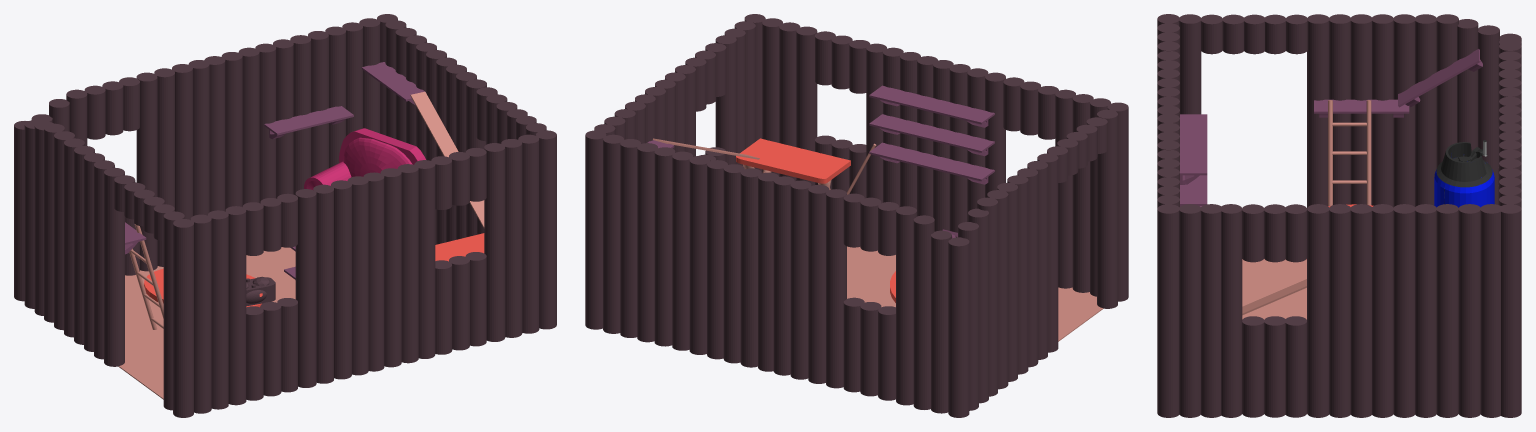
File: OneRoomCabin2.fbx
3 views of the same model, side by side, from view 1: azimuth 30°, elevation 25°; view 2: azimuth 150°, elevation 25°; view 3: azimuth 270°, elevation 25° (orthographic). The views are drawn at different scales.
Parts seen in each view (by area): view 1: Cabin, Cylinder.021, Cylinder.003, Cylinder.014, Cylinder.050, Cylinder.018, Cylinder.019, Cylinder, Cylinder.020, Cylinder.001, Cylinder.012, Cylinder.009 (+67 smaller); view 2: Cylinder.022, Cabin, Cylinder.056, Cylinder.039, Cylinder.031, Cylinder.029, Cylinder.025, Cylinder.038, Cylinder.035, Cylinder.034, Cylinder.040, Cylinder.037 (+64 smaller); view 3: Cylinder, Cylinder.073, Cylinder.071, Cylinder.067, Cylinder.060, Cylinder.072, Cylinder.069, Cylinder.070, Cylinder.068, Cylinder.061, Cylinder.063, Cylinder.043 (+31 smaller).
Boxes of the visible parts, x1,y1,x2,y2 form: Cabin: (118, 247, 295, 399); Cylinder.021: (173, 219, 193, 417); Cylinder.003: (484, 143, 505, 341); Cylinder.014: (295, 189, 316, 387); Cylinder.050: (104, 167, 124, 366); Cylinder.018: (225, 206, 246, 405); Cylinder.019: (208, 210, 228, 409); Cylinder: (536, 130, 556, 329); Cylinder.020: (190, 214, 211, 413); Cylinder.001: (518, 134, 539, 333); Cylinder.012: (331, 180, 351, 379); Cylinder.009: (380, 168, 401, 367); Cylinder.022: (948, 237, 969, 417); Cabin: (847, 246, 1103, 341); Cylinder.056: (1097, 109, 1117, 308); Cylinder.039: (654, 147, 675, 346); Cylinder.031: (790, 180, 811, 379); Cylinder.029: (826, 189, 846, 388); Cylinder.025: (896, 206, 916, 405); Cylinder.038: (672, 151, 692, 350); Cylinder.035: (723, 164, 744, 363); Cylinder.034: (740, 168, 761, 367); Cylinder.040: (637, 143, 657, 342); Cylinder.037: (689, 156, 710, 354); Cylinder: (1157, 204, 1179, 417); Cylinder.073: (1436, 204, 1458, 417); Cylinder.071: (1393, 204, 1415, 417); Cylinder.067: (1307, 204, 1329, 417); Cylinder.060: (1458, 204, 1480, 417); Cylinder.072: (1414, 204, 1436, 417); Cylinder.069: (1350, 204, 1372, 417); Cylinder.070: (1371, 204, 1393, 417); Cylinder.068: (1329, 204, 1350, 417); Cylinder.061: (1179, 204, 1200, 417); Cylinder.063: (1220, 204, 1242, 417); Cylinder.043: (1499, 204, 1521, 417).
Size of the model in its own units: 64614 by 83842 by 40821.
